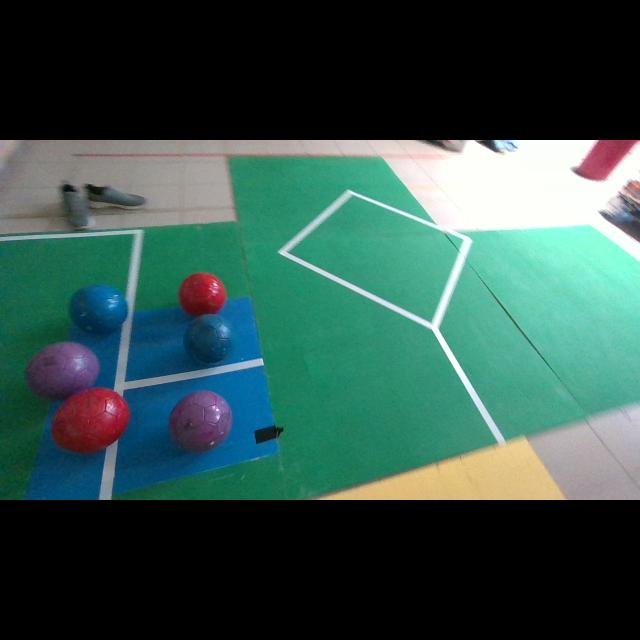B: (69, 285, 128, 333), (184, 314, 231, 364)
P: (26, 341, 100, 400), (169, 390, 232, 452)
R: (51, 388, 129, 453), (179, 272, 226, 316)
